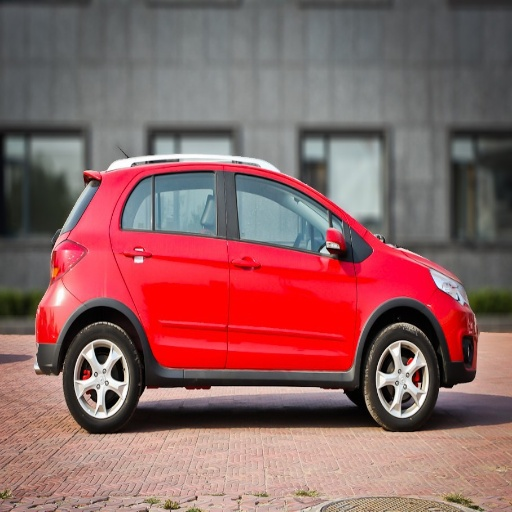back_right_door: (112, 167, 230, 368)
front_right_door: (227, 168, 357, 366)
